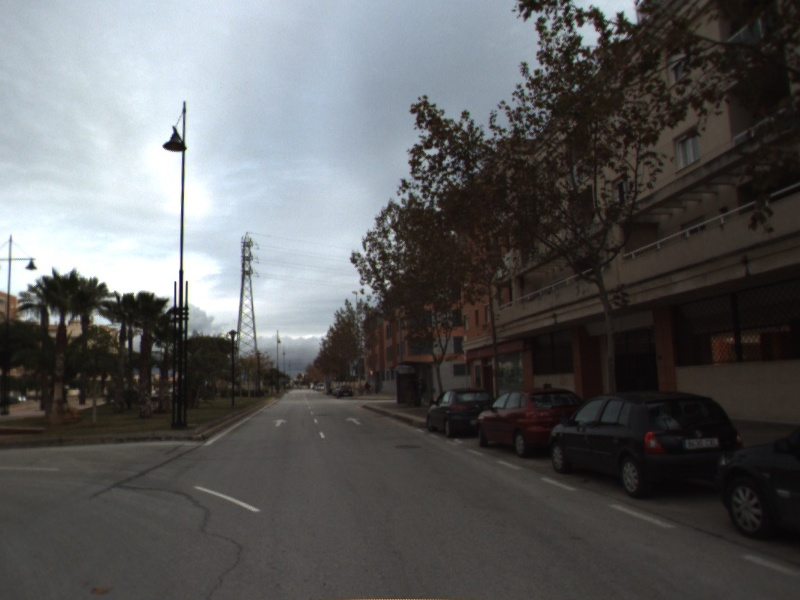STRAIGHT: (344, 415, 363, 427), (271, 417, 290, 428)
